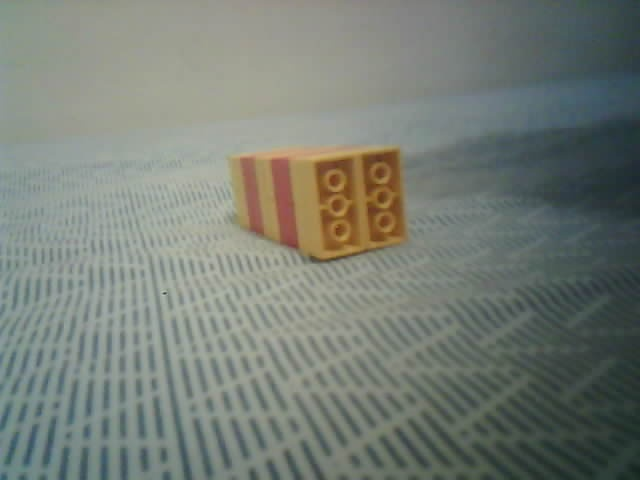lego: (226, 142, 411, 261)
